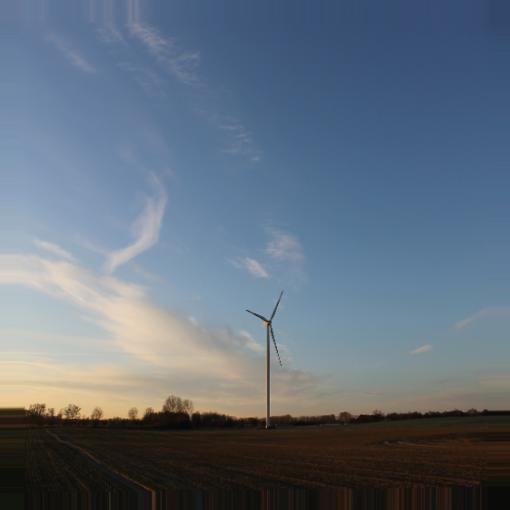wind turbine: (245, 289, 284, 428)
